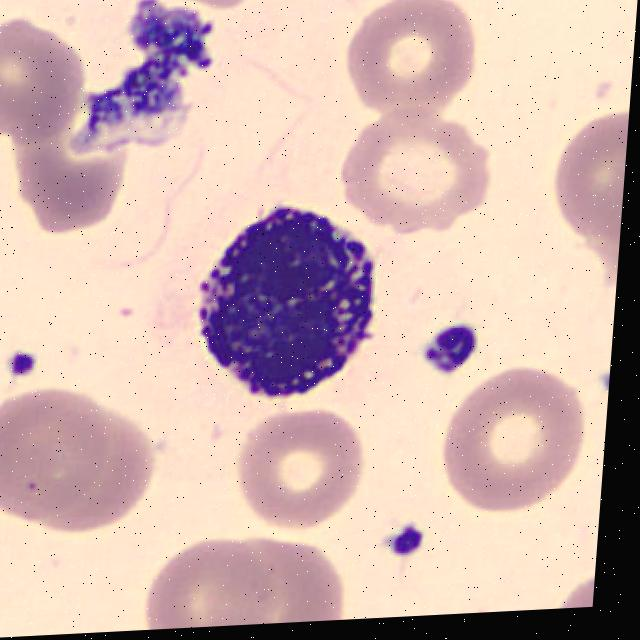basophil: (182, 193, 392, 419)
rbc: (216, 395, 387, 544), (431, 366, 591, 519), (536, 55, 633, 293), (325, 112, 505, 240), (326, 0, 495, 134), (22, 411, 182, 544), (0, 110, 138, 244), (197, 528, 362, 627), (0, 388, 108, 530), (136, 537, 288, 631), (0, 15, 92, 161), (150, 0, 284, 22), (545, 569, 595, 609)
